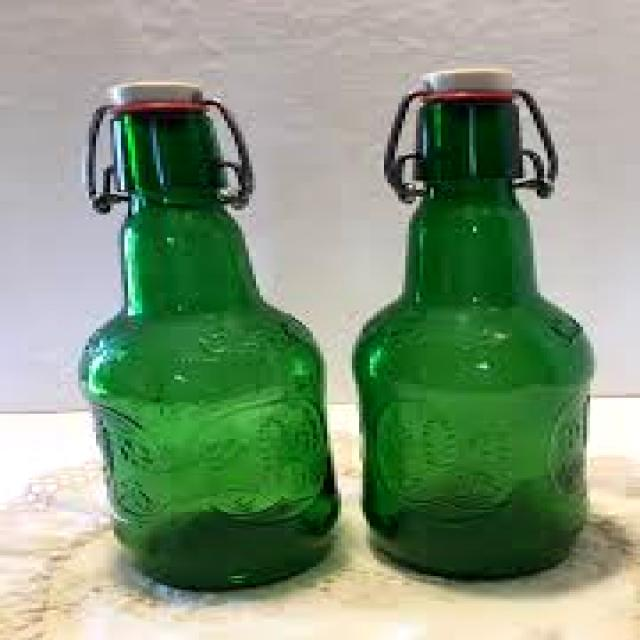Glass: (75, 75, 342, 590), (350, 68, 600, 582)
